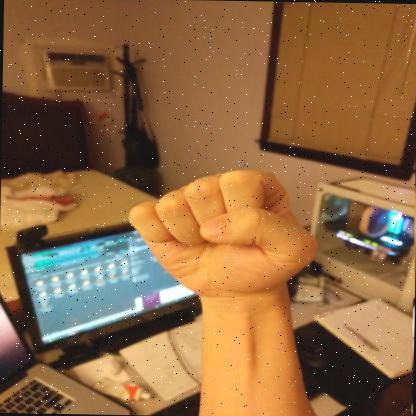S: (128, 168, 318, 303)
